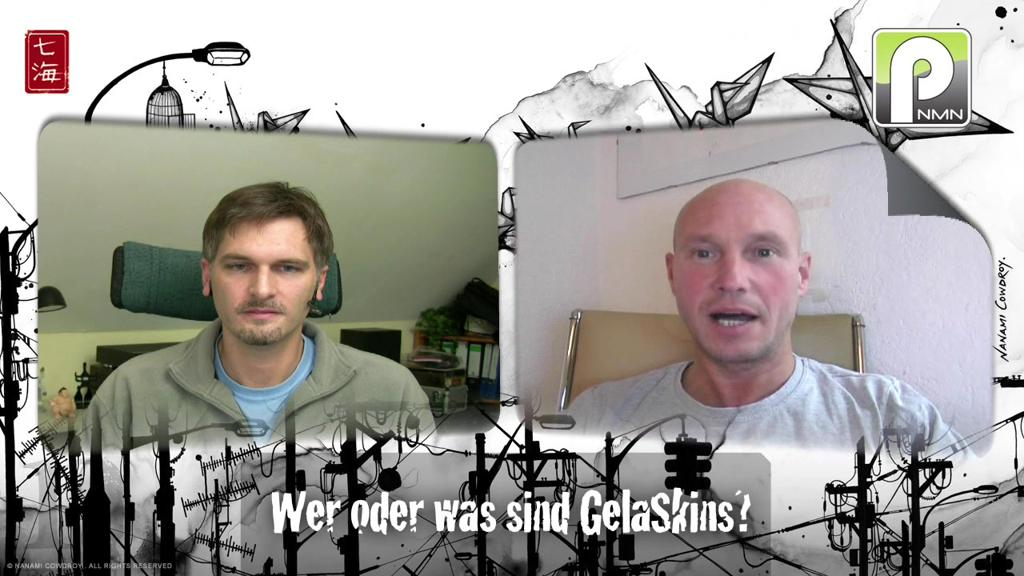face: (686, 198, 792, 360), (224, 214, 308, 342)
